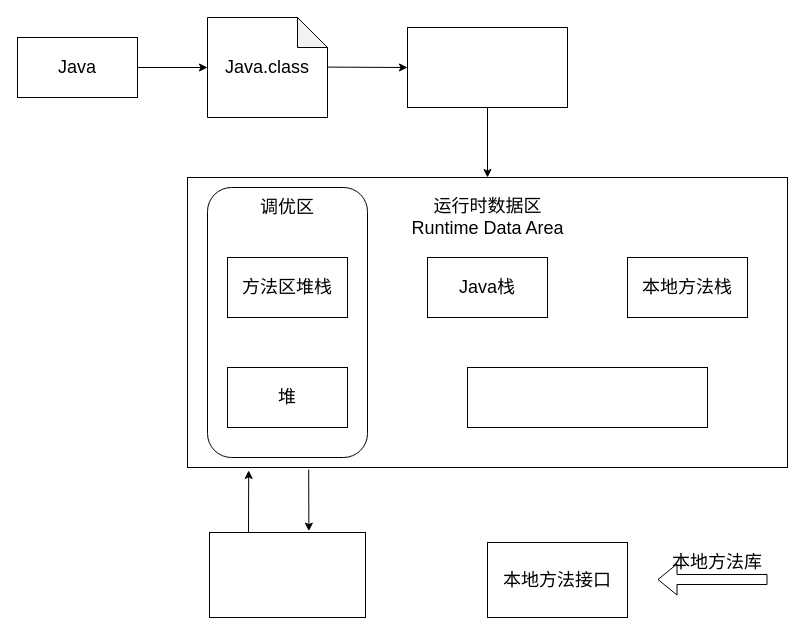
Image size: 805x635. Some labels were removed from this diagram. Here are the shapes that lost their labels. From the top down, the centre of each, then its label:
At (487,67): "类装载器 Class Loader".
At (587,397): "程序计数器".
At (287,575): "执行引擎".
